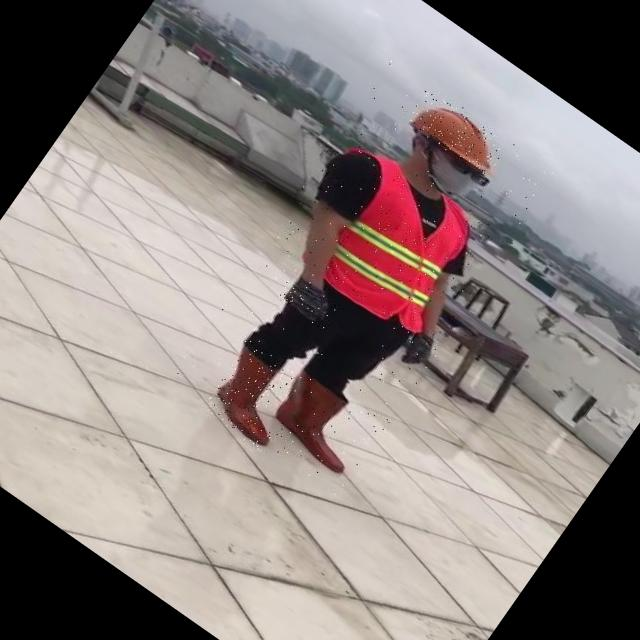hard_hat: (404, 88, 509, 178)
safety_vest: (270, 128, 494, 346)
vehicle: (162, 56, 561, 500)
work_boots: (260, 364, 382, 481), (200, 340, 309, 451)
